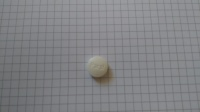Parol: (86, 54, 110, 80)
